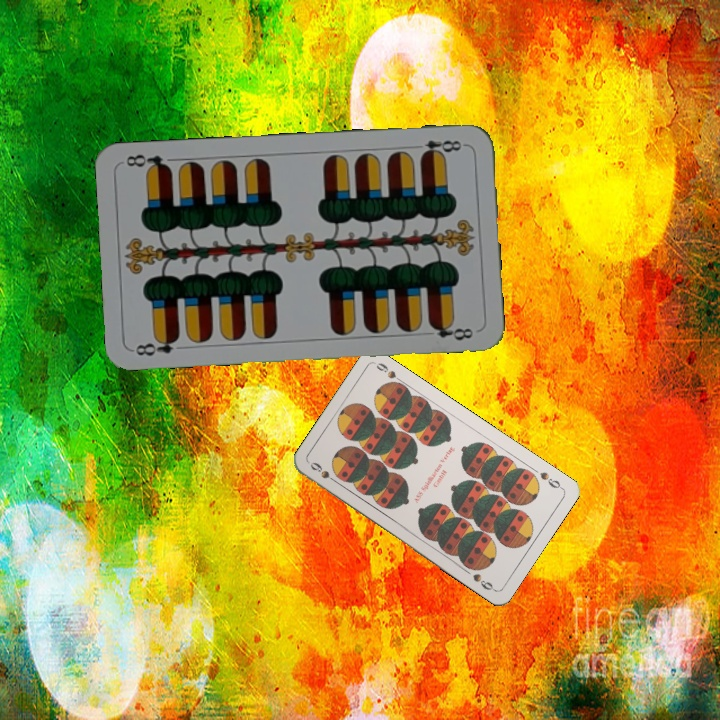E8: (132, 332, 182, 359), (417, 136, 468, 160)
S9: (306, 458, 342, 487), (536, 468, 565, 491)
